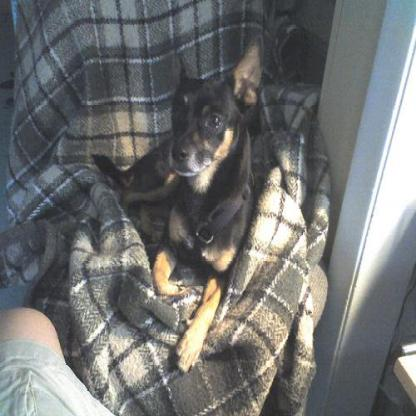miniature_pinscher: (92, 31, 266, 374)
